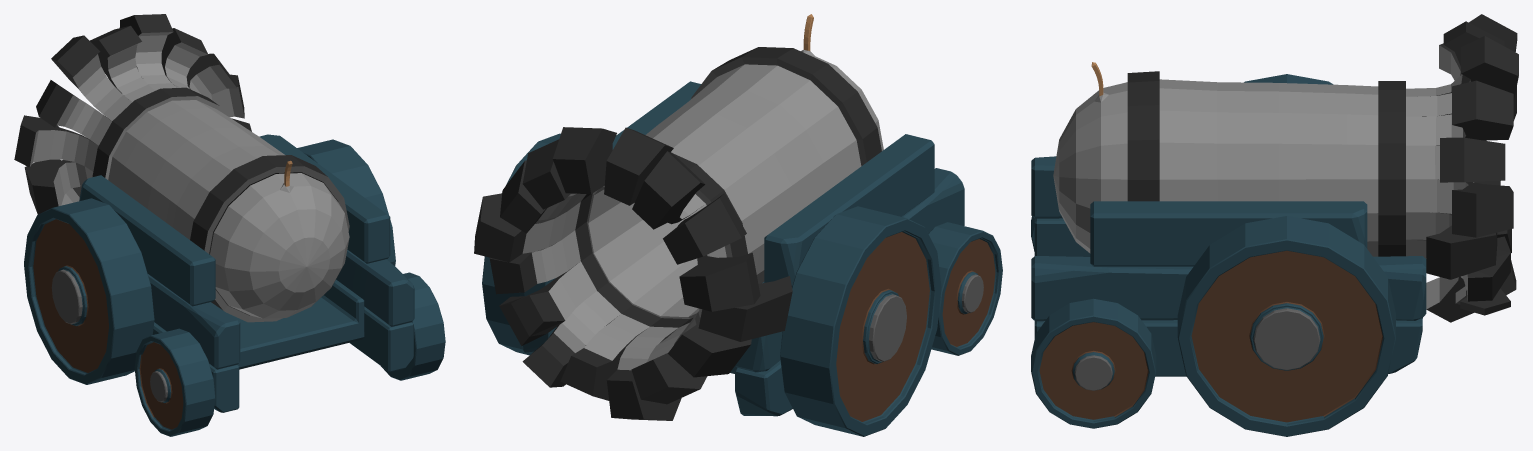
The model's file is ClusterCannon.fbx.
The picture shows the model from 3 angles, left to right: view 1: azimuth 30°, elevation 25°; view 2: azimuth 150°, elevation 25°; view 3: azimuth 270°, elevation 25°; orthographic projection. The views are drawn at different scales.
Parts seen in each view (by area): view 1: Cannon_Front, Wheels, Cannon_Platform, Cannon_Back; view 2: Cannon_Front, Wheels, Cannon_Platform, Cannon_Back; view 3: Cannon_Front, Wheels, Cannon_Platform, Cannon_Back.
Boxes of the visible parts, x1,y1,x2,y2 form: Cannon_Front: (14,14,349,322); Wheels: (24,139,445,436); Cannon_Platform: (79,134,414,412); Cannon_Back: (210,160,349,318); Cannon_Front: (474,47,881,420); Wheels: (482,133,1002,436); Cannon_Platform: (520,81,964,416); Cannon_Back: (801,14,883,150); Cannon_Front: (1127,14,1518,322); Wheels: (1031,74,1395,436); Cannon_Platform: (1031,156,1426,376); Cannon_Back: (1053,62,1127,253).
Size of the model in its own units: 197 by 174 by 238.
